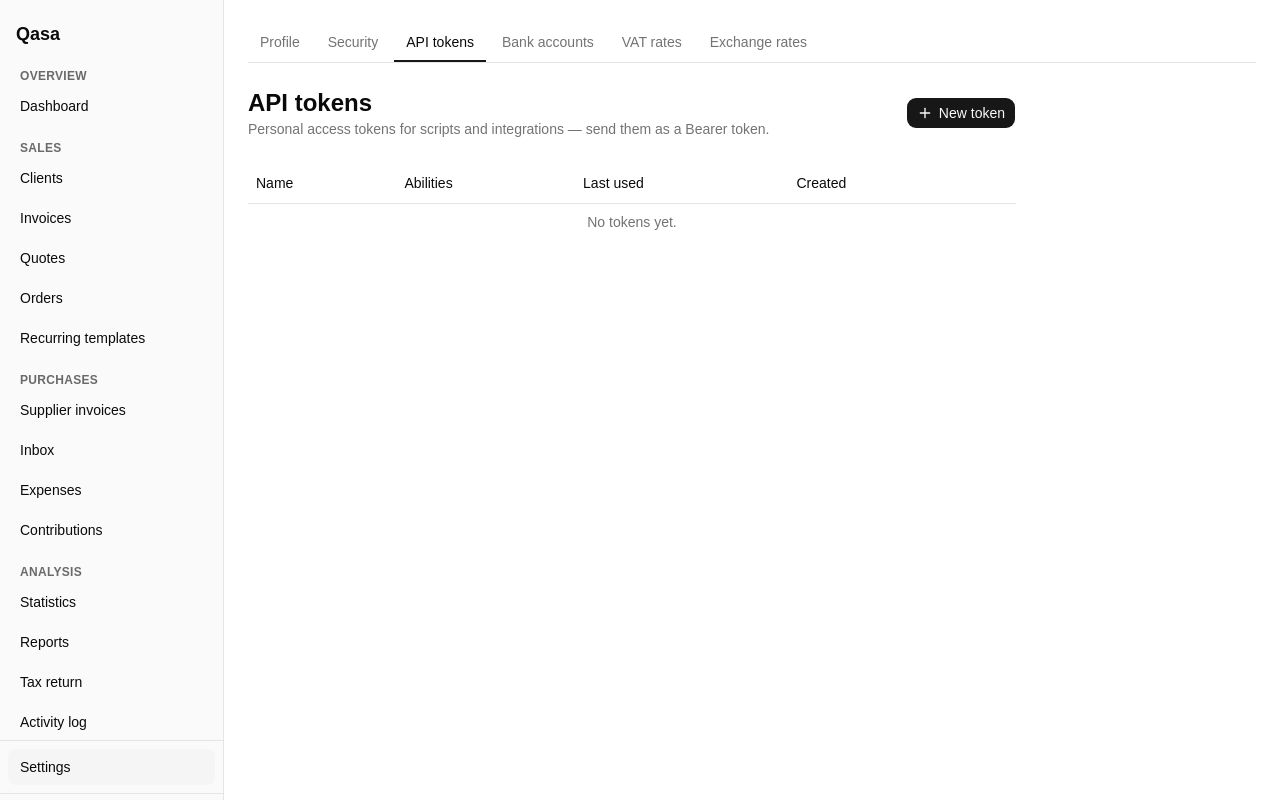
API tokens settings › creates a token and shows the plaintext value once
Click the button "New token".
click(961, 113)  # box [906,97,1016,129]
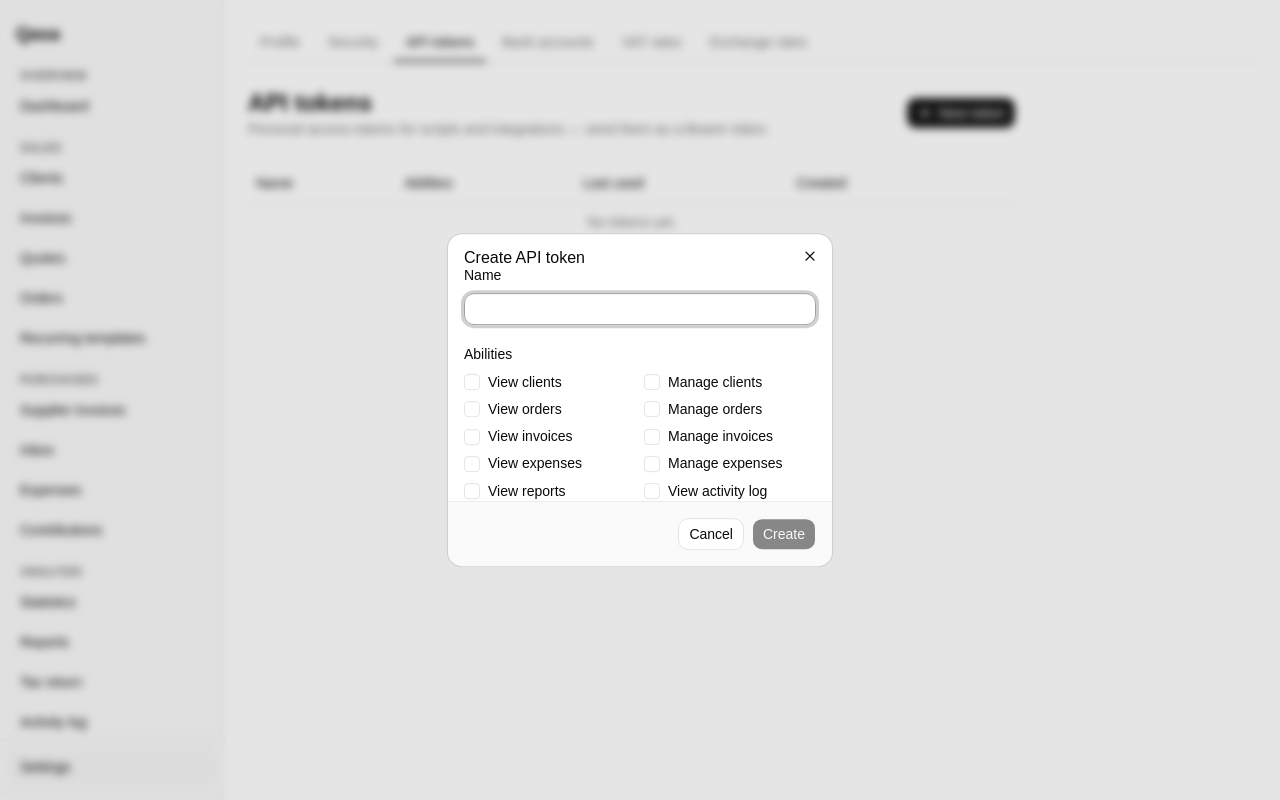
Type "CI script" into the field labelled "Name".
click(640, 309); type("CI script")  # box [464,293,816,325]
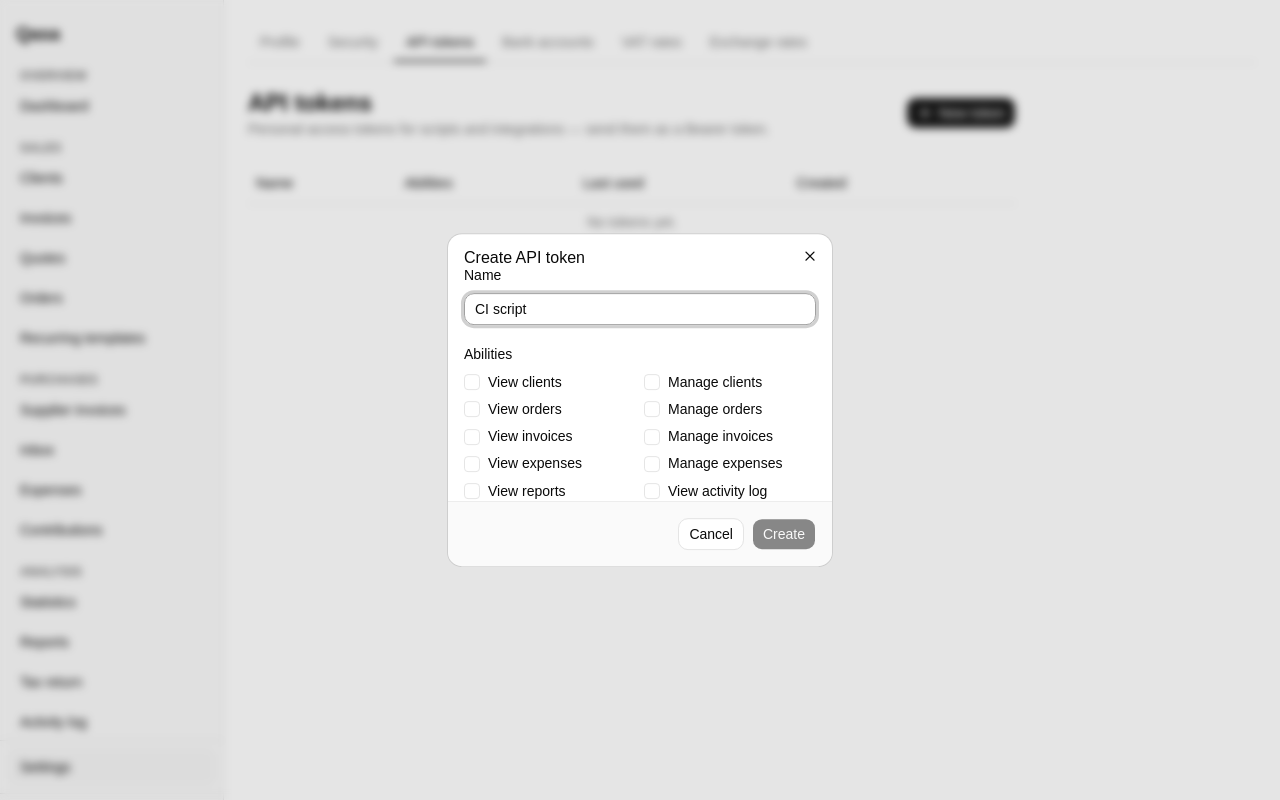
Click the checkbox named "View clients" next to "View clients".
click(472, 382)  # box [464,374,480,390]
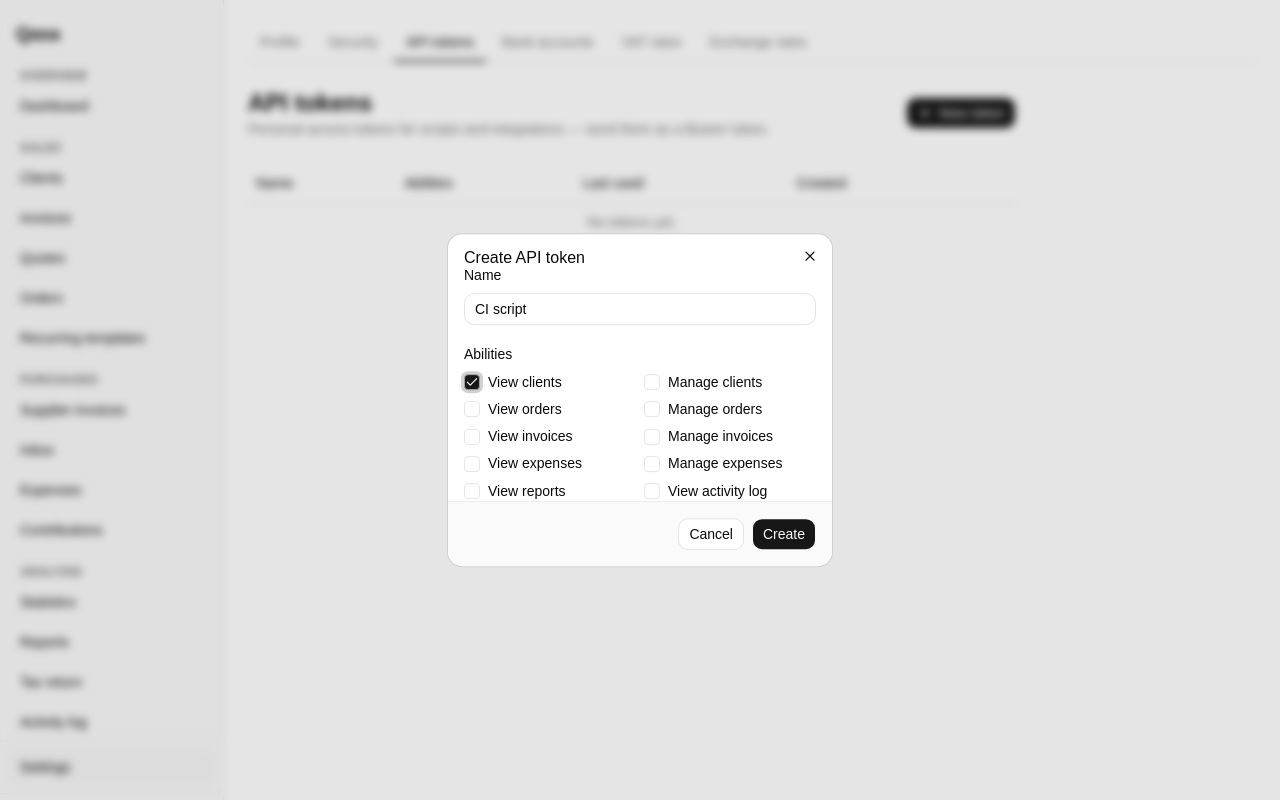
Click the button "Create".
click(784, 534)  # box [752,518,816,550]
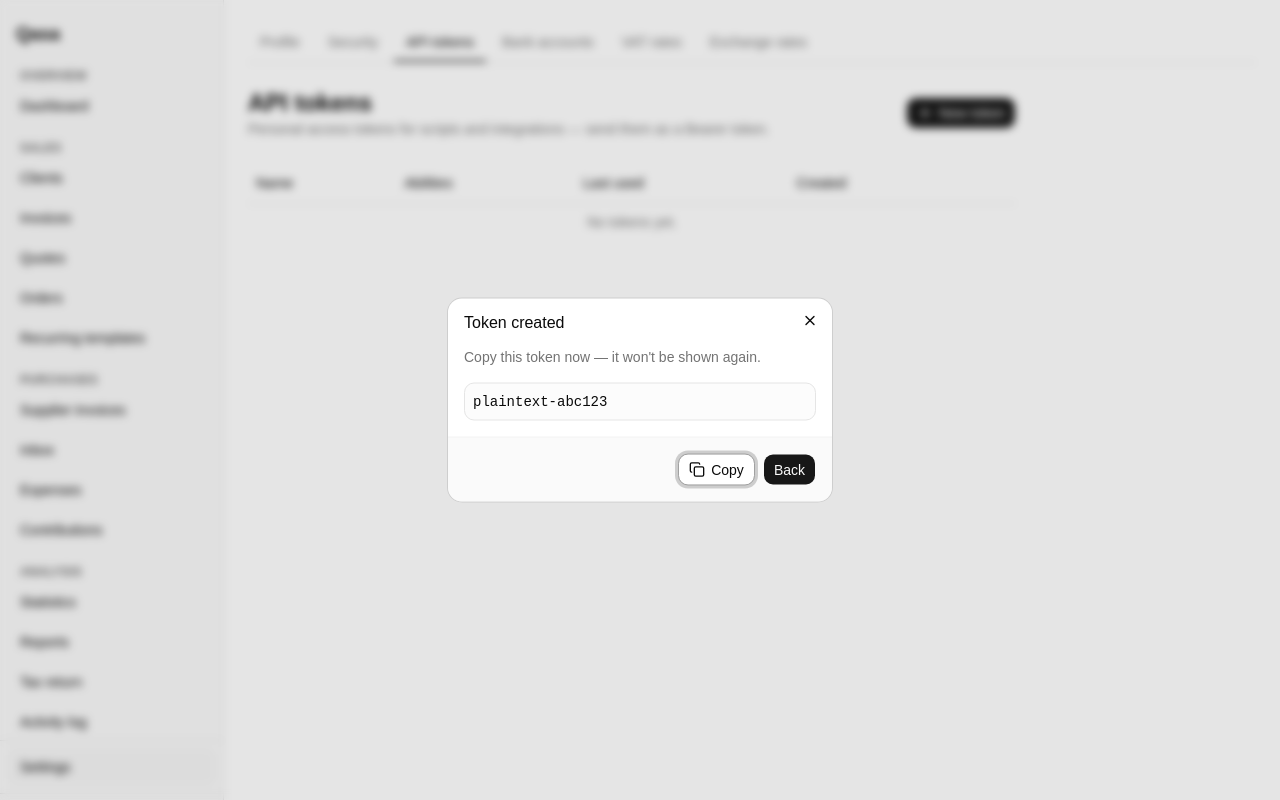
expect the text "plaintext-abc123" is shown: met, box [464,382,816,420]
